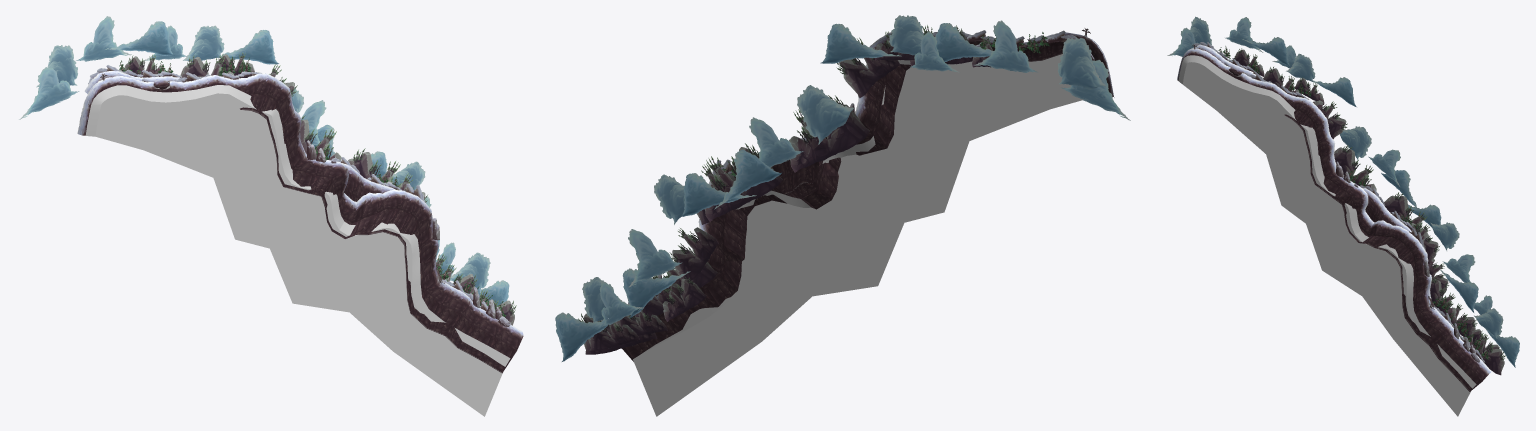
File: LVL 13 Part 3.FBX
3 renders of one model, left to right at view 1: azimuth 30°, elevation 25°; view 2: azimuth 150°, elevation 25°; view 3: azimuth 330°, elevation 25°, orthographic. The views are drawn at different scales.
Parts seen in each view (by area): view 1: LVL 13 Black_Pt3 _2, LVL 13 Black_Pt3, LVL 13 Land Pt 3, LVL 13 Land Pt 3 _2, Lvl 13 Clouds Pt 3 _2, Lvl 13 Clouds Pt 3, LVL 13 Mountain BG Pt 3_2, LVL 13 Mountain BG Pt 3, LVL 13 Cliff Rocks Pt 3, LVL 13 Trees pt 3_2; view 2: LVL 13 Black_Pt3 _2, LVL 13 Black_Pt3, Lvl 13 Clouds Pt 3 _2, Lvl 13 Clouds Pt 3, LVL 13 Mountain BG Pt 3, LVL 13 Land Pt 3 _2, LVL 13 Land Pt 3, LVL 13 Mountain BG Pt 3_2; view 3: LVL 13 Black_Pt3 _2, LVL 13 Black_Pt3, LVL 13 Land Pt 3, LVL 13 Land Pt 3 _2, Lvl 13 Clouds Pt 3 _2, Lvl 13 Clouds Pt 3, LVL 13 Mountain BG Pt 3, LVL 13 Mountain BG Pt 3_2, LVL 13 Trees pt 3, LVL 13 Cliff Rocks Pt 3, LVL 13 Trees pt 3_2.
Boxes of the visible parts, x1,y1,x2,y2 form: LVL 13 Black_Pt3 _2: (85, 85, 344, 303); LVL 13 Black_Pt3: (293, 221, 510, 416); LVL 13 Land Pt 3: (355, 174, 523, 373); LVL 13 Land Pt 3 _2: (77, 65, 365, 238); Lvl 13 Clouds Pt 3 _2: (19, 16, 334, 157); Lvl 13 Clouds Pt 3: (371, 151, 509, 305); LVL 13 Mountain BG Pt 3_2: (124, 52, 341, 160); LVL 13 Mountain BG Pt 3: (348, 148, 516, 325); LVL 13 Cliff Rocks Pt 3: (306, 140, 510, 326); LVL 13 Trees pt 3_2: (119, 57, 329, 160); LVL 13 Black_Pt3 _2: (822, 54, 1094, 285); LVL 13 Black_Pt3: (633, 190, 877, 416); Lvl 13 Clouds Pt 3 _2: (714, 15, 1130, 209); Lvl 13 Clouds Pt 3: (555, 173, 756, 361); LVL 13 Mountain BG Pt 3: (578, 143, 782, 354); LVL 13 Land Pt 3 _2: (777, 30, 1114, 209); LVL 13 Land Pt 3: (614, 159, 796, 361); LVL 13 Mountain BG Pt 3_2: (789, 25, 992, 172); LVL 13 Black_Pt3 _2: (1178, 55, 1361, 269); LVL 13 Black_Pt3: (1322, 231, 1476, 416); LVL 13 Land Pt 3: (1366, 210, 1491, 391); LVL 13 Land Pt 3 _2: (1177, 42, 1387, 243); Lvl 13 Clouds Pt 3 _2: (1167, 16, 1416, 207); Lvl 13 Clouds Pt 3: (1408, 204, 1519, 367); LVL 13 Mountain BG Pt 3: (1384, 192, 1505, 375); LVL 13 Mountain BG Pt 3_2: (1234, 48, 1376, 190); LVL 13 Trees pt 3: (1401, 213, 1488, 359); LVL 13 Cliff Rocks Pt 3: (1336, 161, 1479, 362); LVL 13 Trees pt 3_2: (1218, 46, 1365, 186).
Size of the model in its own units: 22179 by 3194 by 19339.
